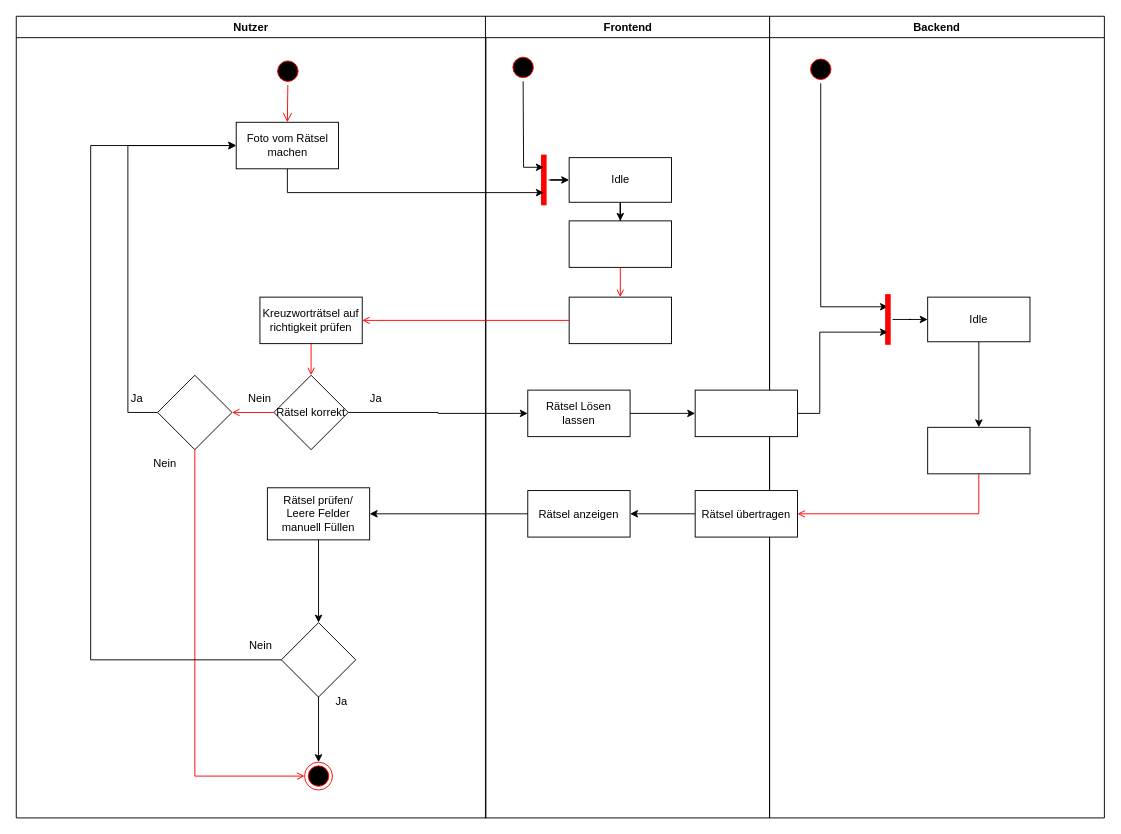
Image size: 1121x834. Some labels were removed from this diagram. Each missing label, with the centre of its shape:
"Digitales Kreuzworträtsel anzeigen" goes at (619,320).
"Digitales Rätsel übertragen" goes at (745,413).
"Foto digitalisieren" goes at (619,243).
"Neues Foto?" goes at (194,412).
"Rätsel ist gelöst" goes at (318,659).
"Rätsel Lösen" goes at (978,450).
